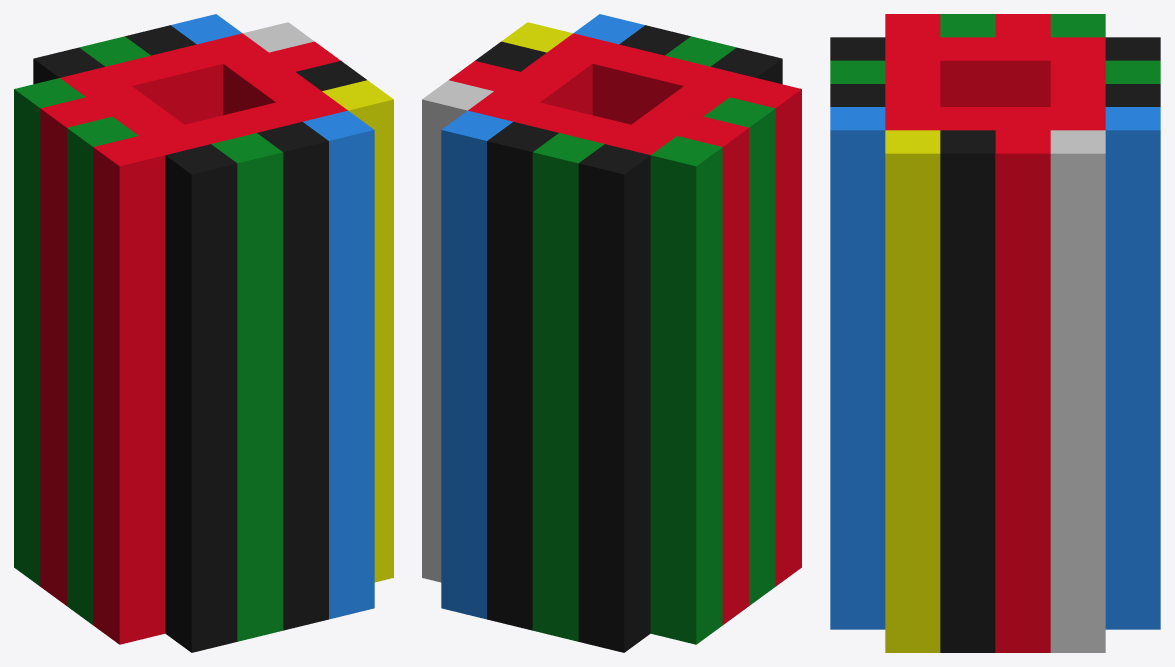
Rendered from wires.obj.
3 views of the same model, side by side, from view 1: azimuth 30°, elevation 25°; view 2: azimuth 150°, elevation 25°; view 3: azimuth 270°, elevation 25° (orthographic). The views are drawn at different scales.
Visible parts, largest first — view 1: wires; view 2: wires; view 3: wires.
Boxes of the visible parts, x1,y1,x2,y2 form: wires: (14,14,393,652); wires: (422,14,801,652); wires: (830,14,1160,652).
Size of the model in its own units: 6 by 10 by 6.
1 material, 1 textured.
